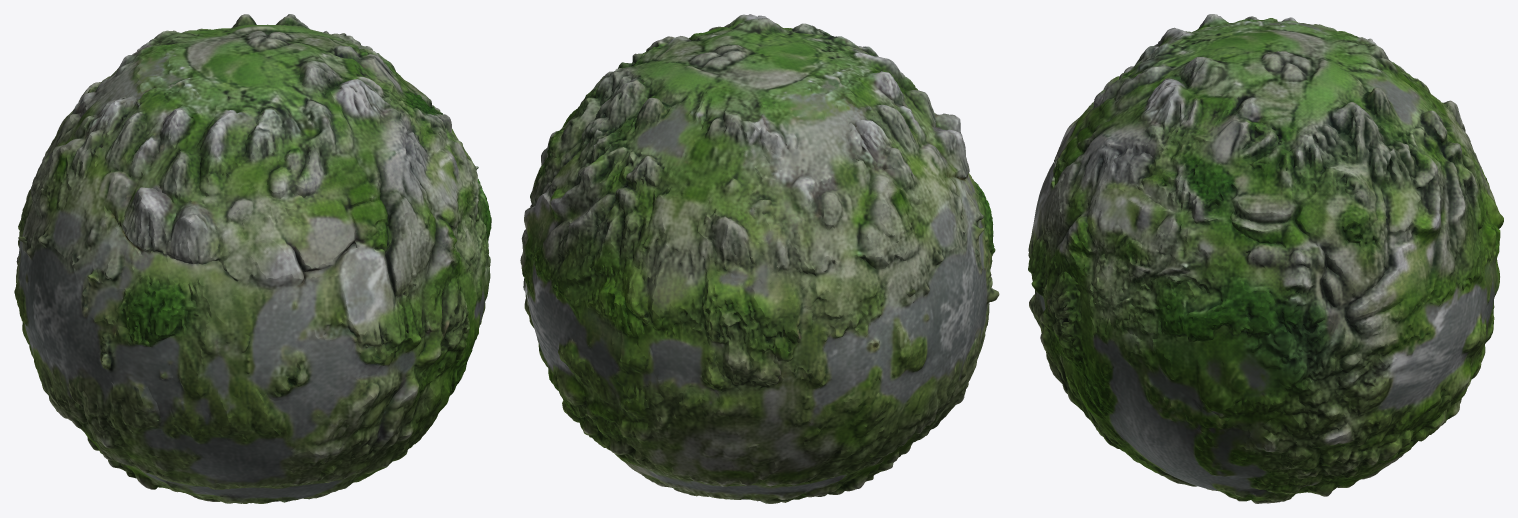
3 views of the same model, side by side, from view 1: azimuth 30°, elevation 25°; view 2: azimuth 150°, elevation 25°; view 3: azimuth 270°, elevation 25° (orthographic).
Visible parts, largest first — view 1: world; view 2: world; view 3: world.
Part boxes in pixels (left/top/right/bottom): world: left=14, top=14, right=491, bottom=503; world: left=520, top=14, right=999, bottom=503; world: left=1028, top=14, right=1503, bottom=503.
Size of the model in its own units: 0.9929 by 1 by 1.
1 material, 1 textured.
